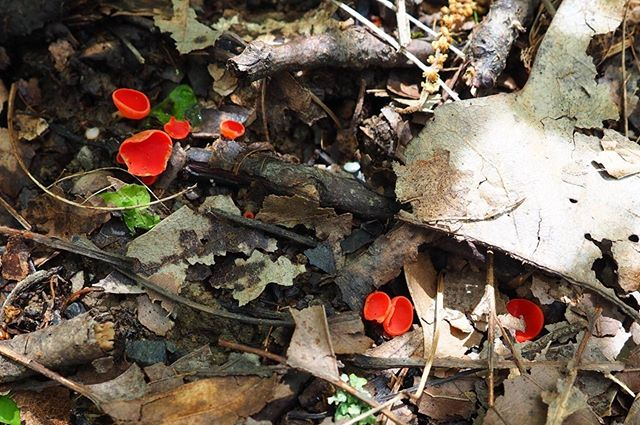vegetation: (7, 1, 632, 424)
